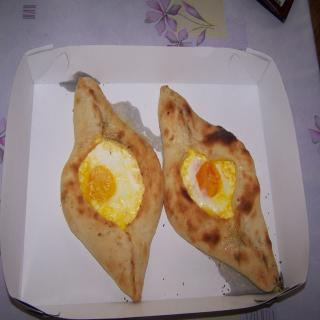Egg: (76, 140, 146, 232), (180, 149, 237, 219)
